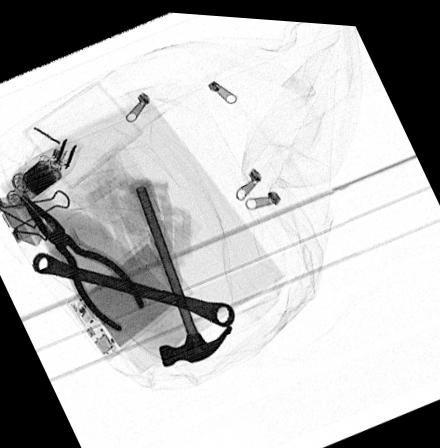Hammer: (127, 176, 232, 364)
Pliers: (16, 190, 146, 331)
Powerbank: (65, 231, 193, 357)
Wrench: (30, 250, 235, 324)
